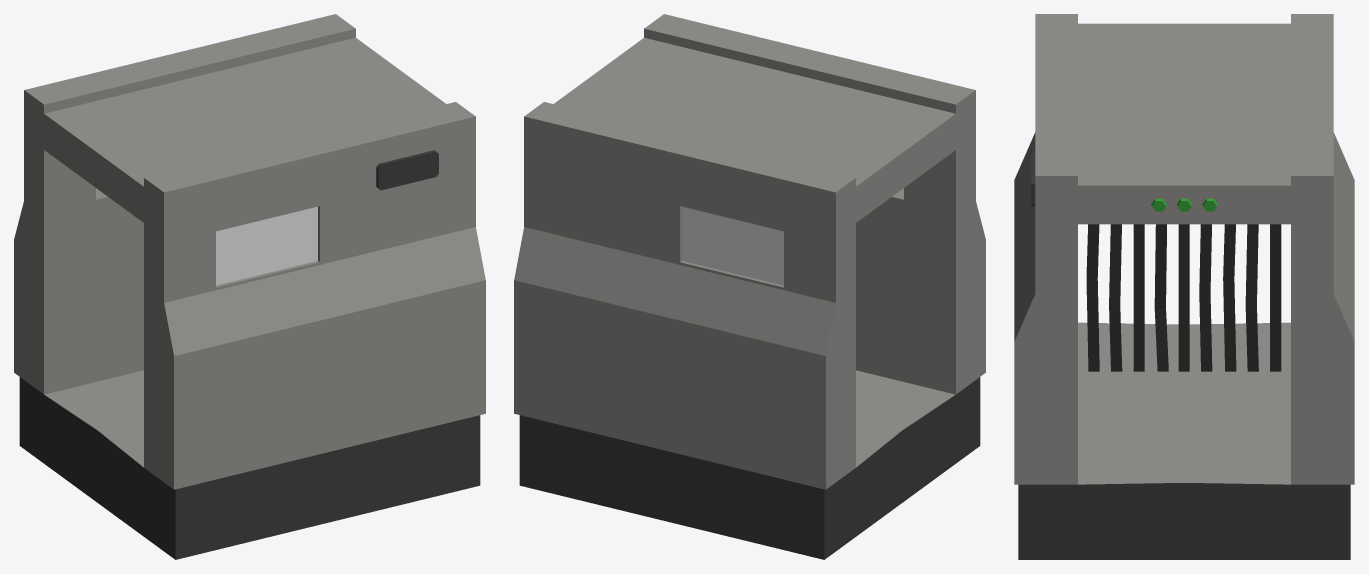
File: SM_Props_Interior_Generic_Factory_Conveyor_Machine_02.fbx
3 views of the same model, side by side, from view 1: azimuth 30°, elevation 25°; view 2: azimuth 150°, elevation 25°; view 3: azimuth 270°, elevation 25° (orthographic). The views are drawn at different scales.
Parts seen in each view (by area): view 1: SM_Props_Interior_Generic_Factory_Conveyor_Machine_02; view 2: SM_Props_Interior_Generic_Factory_Conveyor_Machine_02; view 3: SM_Props_Interior_Generic_Factory_Conveyor_Machine_02.
Part boxes in pixels (box(x1,y1,x2,y2)): SM_Props_Interior_Generic_Factory_Conveyor_Machine_02: box(14, 14, 485, 559); SM_Props_Interior_Generic_Factory_Conveyor_Machine_02: box(514, 14, 985, 559); SM_Props_Interior_Generic_Factory_Conveyor_Machine_02: box(1014, 14, 1354, 559).
Bounding box in the file's own units: 182 × 200 × 160.
